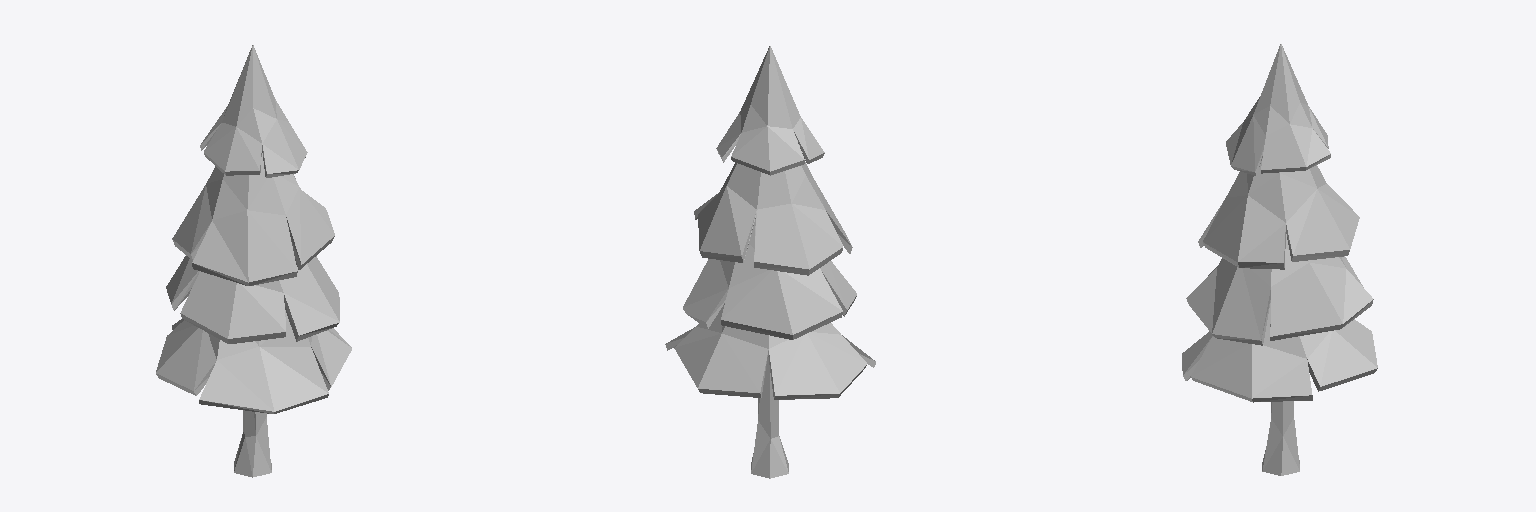
Rendered from fir_001.obj.
The picture shows the model from 3 angles: view 1: azimuth 30°, elevation 25°; view 2: azimuth 150°, elevation 25°; view 3: azimuth 270°, elevation 25°; orthographic projection.
Visible parts, largest first — view 1: fir_001; view 2: fir_001; view 3: fir_001.
Boxes of the visible parts, x1,y1,x2,y2 form: fir_001: [156, 45, 351, 477]; fir_001: [665, 46, 875, 478]; fir_001: [1182, 44, 1377, 475].
Size of the model in its own units: 2.63 by 6.18 by 2.59.